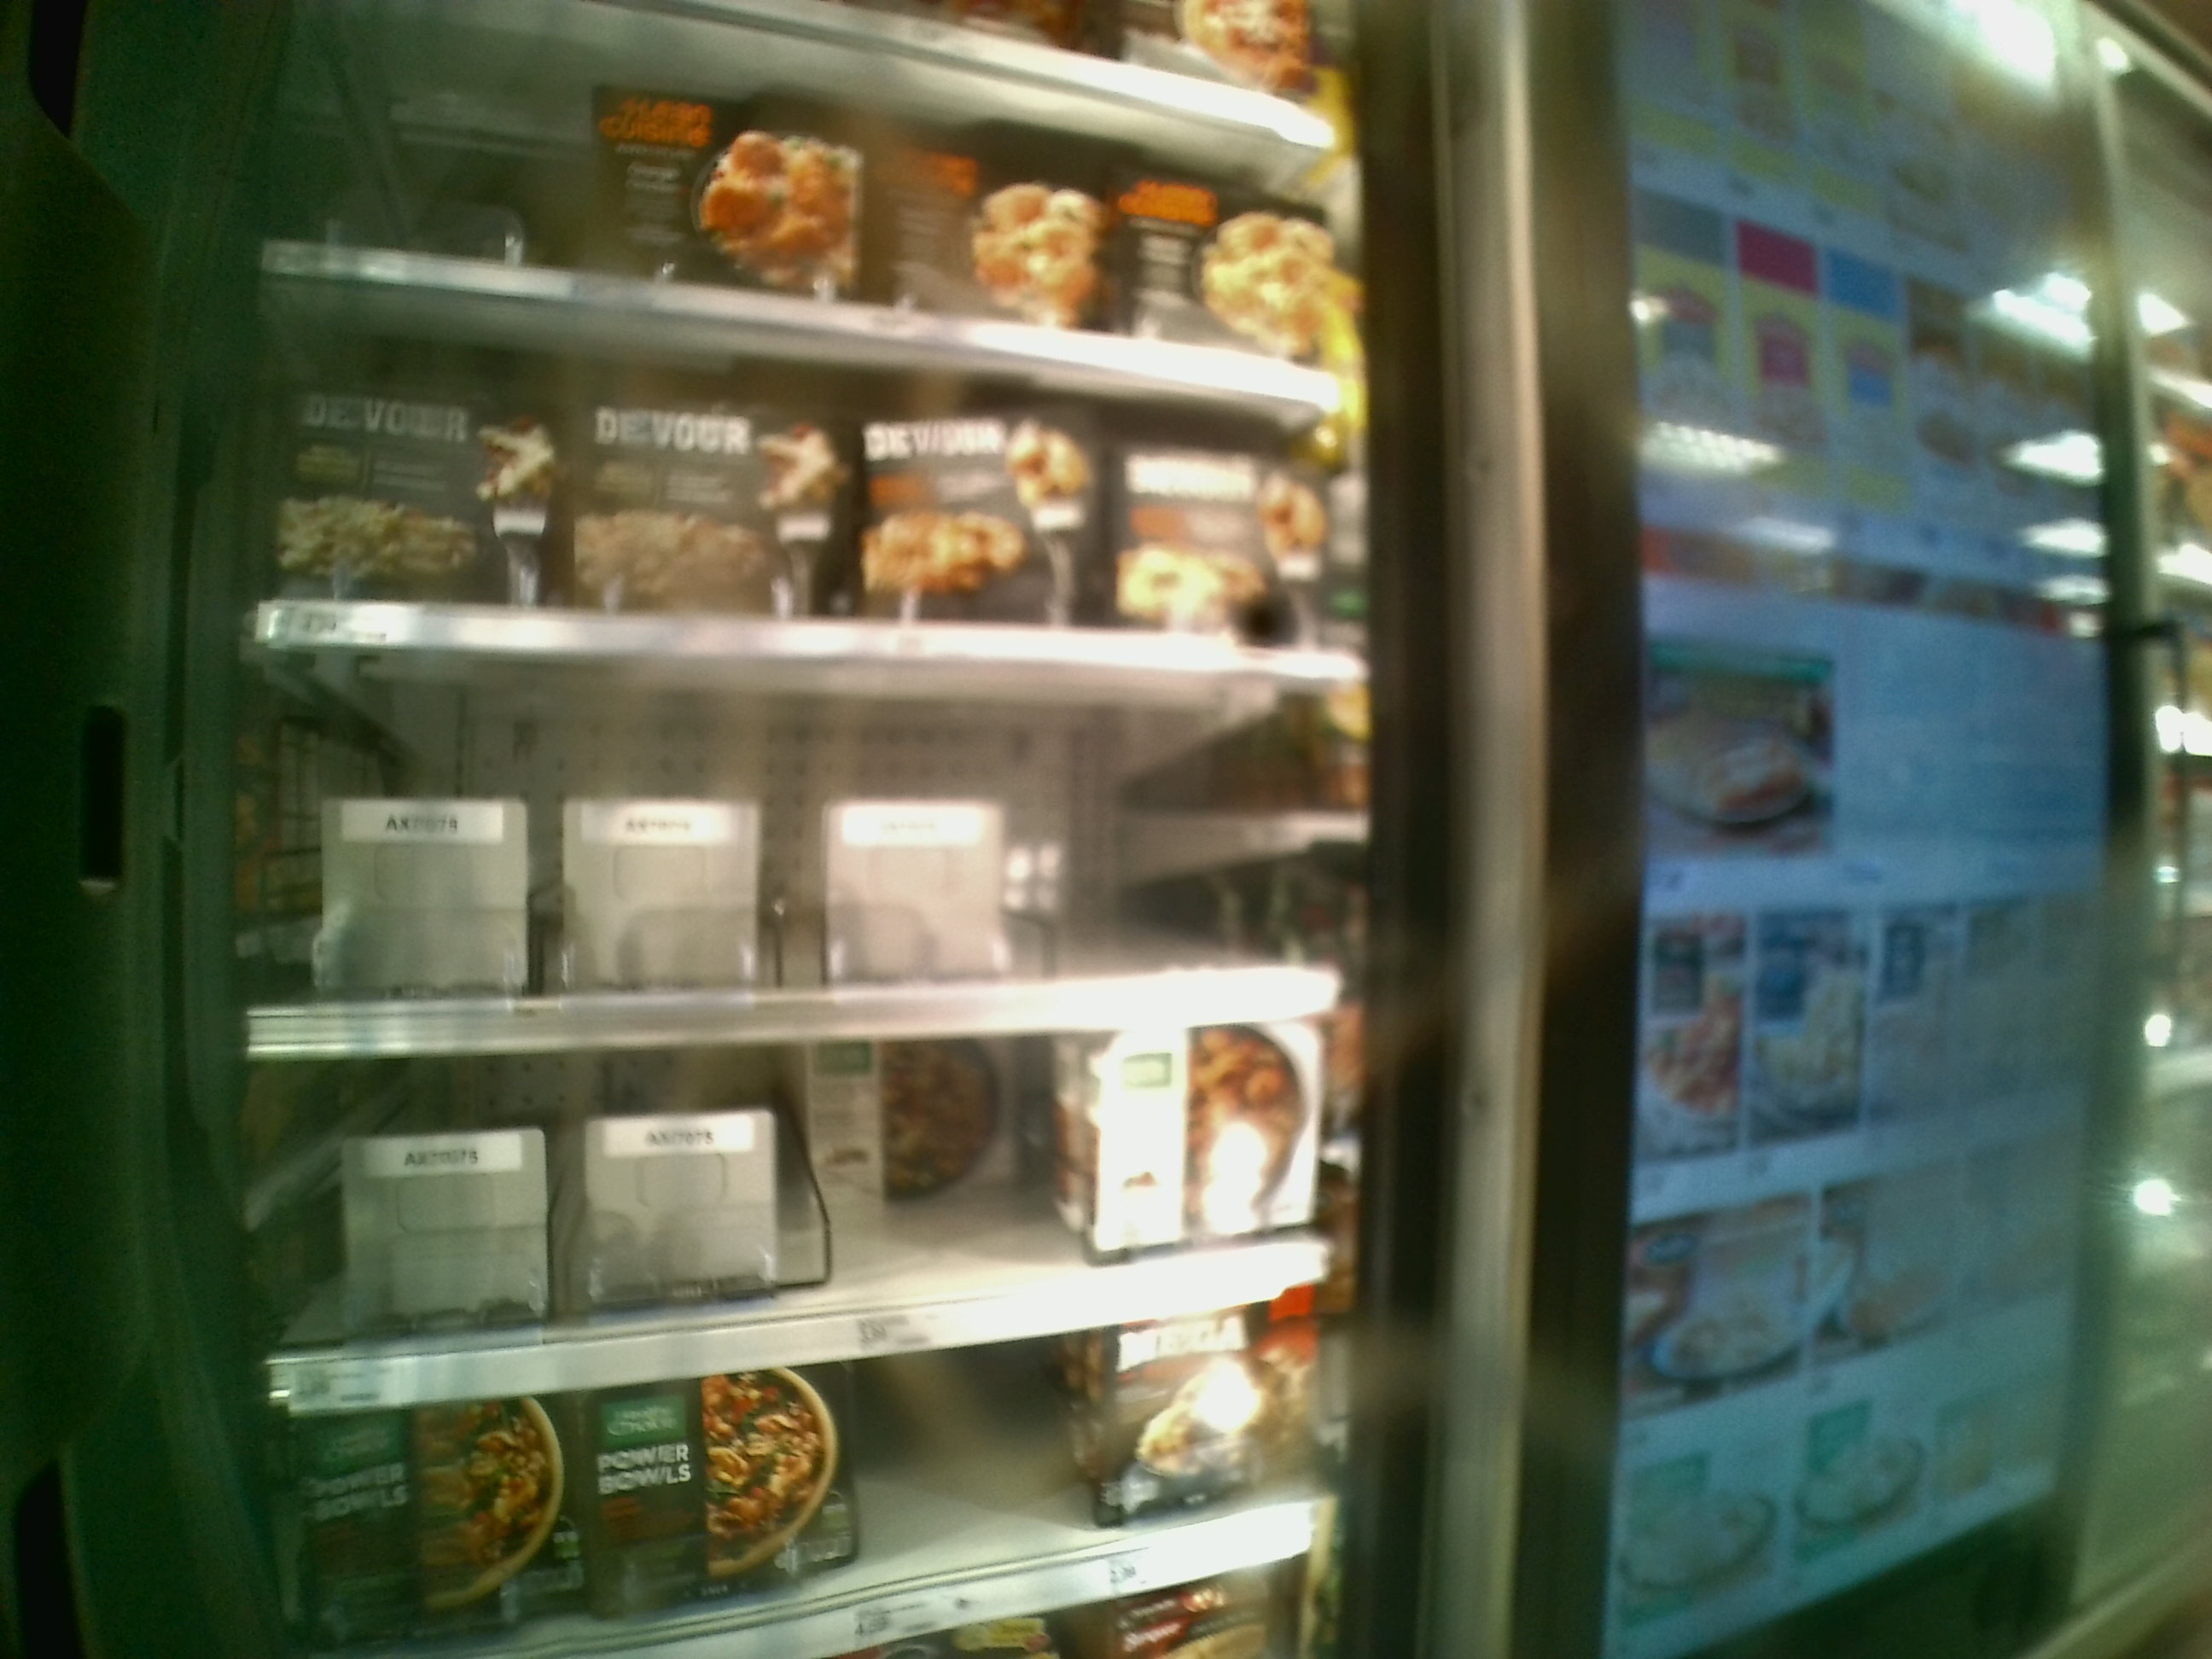shelf: (240, 643, 1345, 1049), (235, 1007, 1348, 1399)
